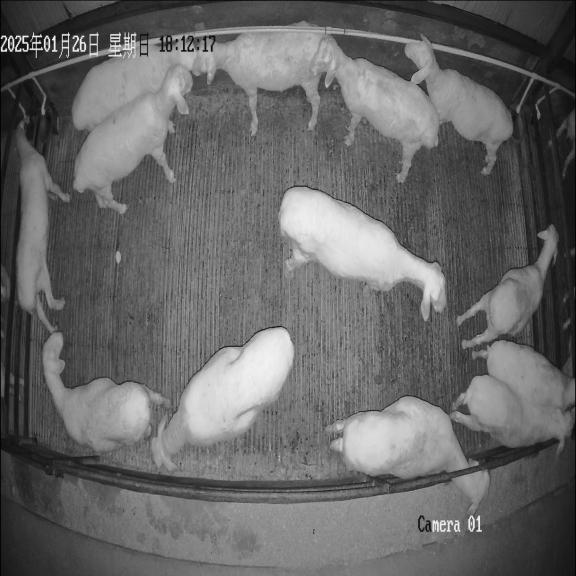drinking: (15, 117, 70, 333)
eating: (325, 396, 490, 514)
stand: (279, 187, 446, 321), (151, 327, 294, 471), (310, 37, 439, 182), (73, 64, 192, 213), (42, 331, 170, 453), (192, 20, 325, 135), (405, 34, 513, 175), (456, 225, 558, 347), (71, 38, 196, 130), (449, 374, 573, 453), (473, 340, 576, 413)
